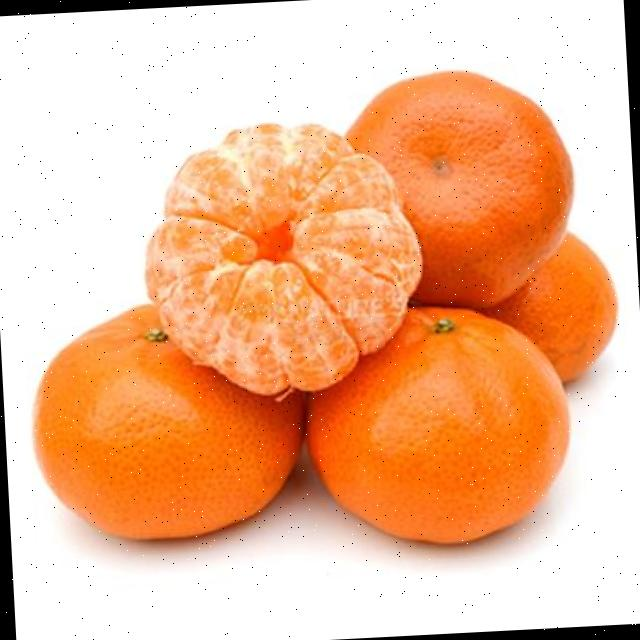Jeruk: (136, 114, 430, 404), (25, 294, 312, 546), (299, 297, 576, 552), (340, 62, 581, 315), (479, 228, 621, 386)
